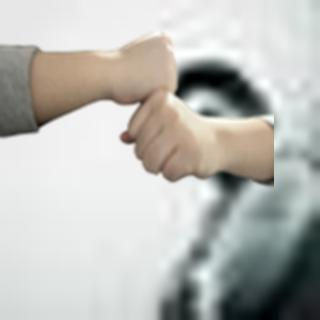CAREFUL: (44, 31, 267, 184)
